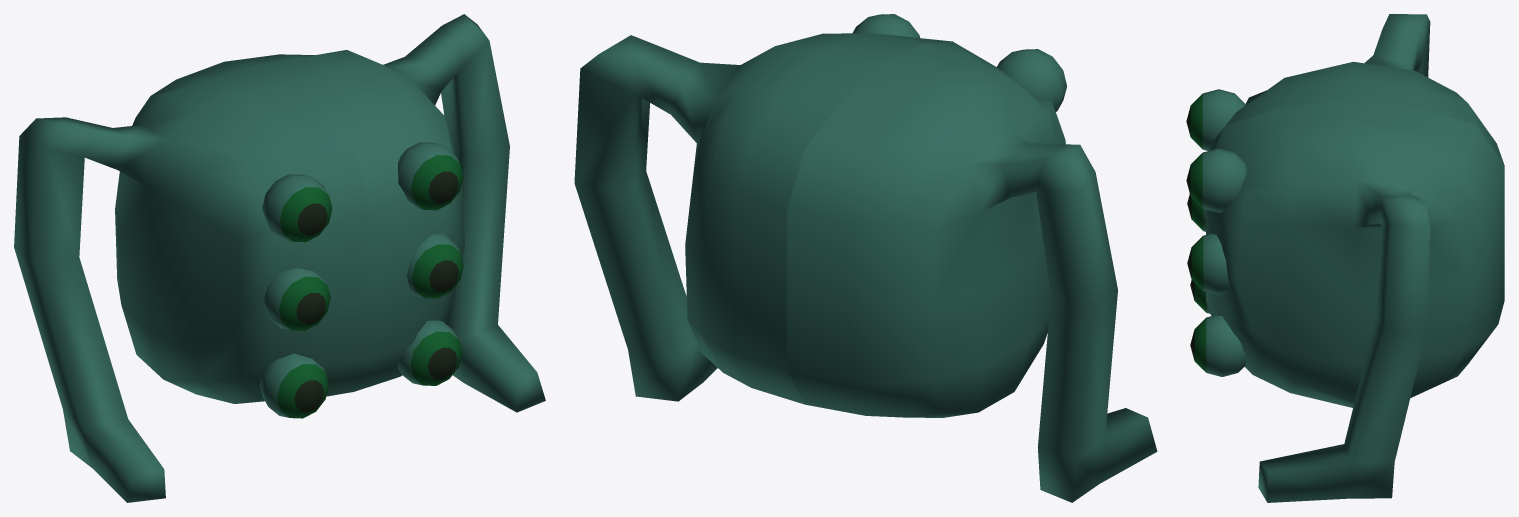
Rendered from monster_nobones.fbx.
3 views of the same model, side by side, from view 1: azimuth 30°, elevation 25°; view 2: azimuth 150°, elevation 25°; view 3: azimuth 270°, elevation 25° (orthographic). The views are drawn at different scales.
Parts seen in each view (by area): view 1: character; view 2: character; view 3: character.
Boxes of the visible parts, x1,y1,x2,y2 form: character: (14,14,545,502); character: (574,14,1157,502); character: (1186,14,1504,502).
Bounding box in the file's own units: 339 × 230 × 213.
